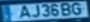3: (40, 3, 50, 18)
6: (49, 2, 59, 17)
A: (18, 4, 32, 19)
B: (60, 2, 71, 16)
G: (70, 1, 81, 16)
J: (31, 4, 40, 18)
